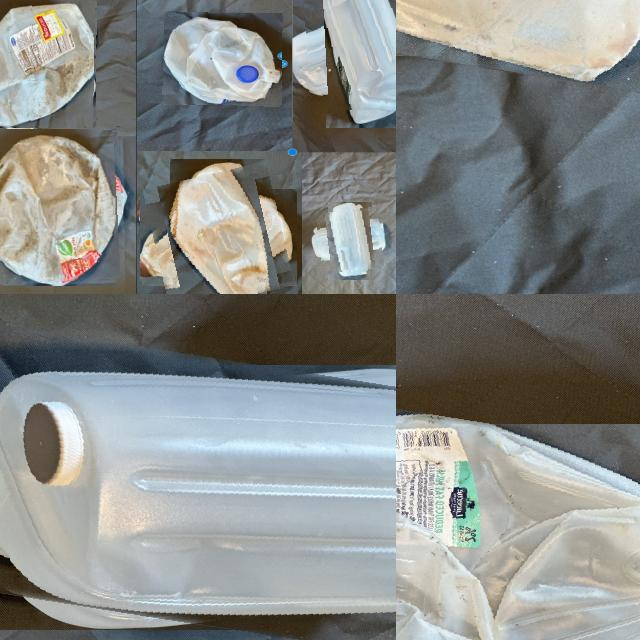milk-jug: (0, 344, 396, 640), (396, 403, 640, 640), (396, 0, 640, 77), (0, 131, 122, 283), (147, 167, 287, 294), (0, 0, 95, 128), (162, 12, 282, 106), (305, 0, 396, 111), (316, 208, 382, 273)
